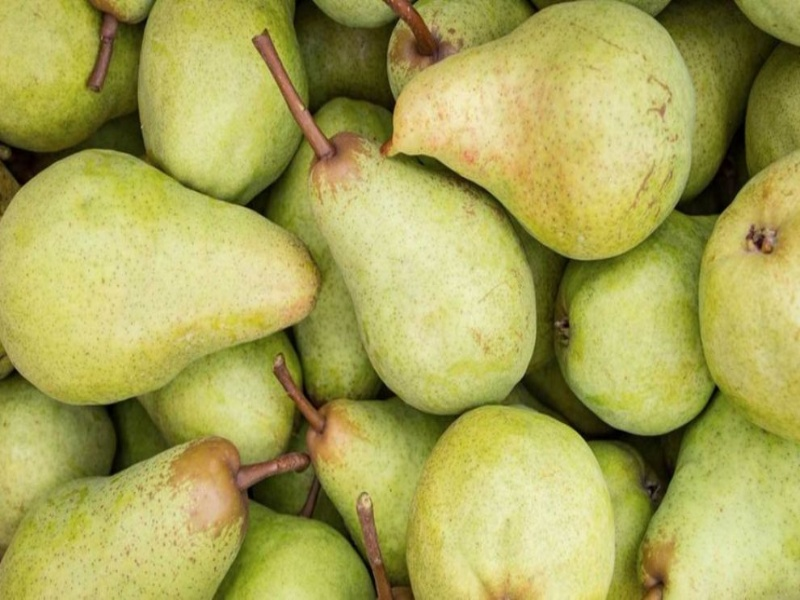Pera: (252, 29, 537, 411), (2, 149, 322, 404), (384, 1, 692, 259), (1, 435, 312, 600), (268, 98, 417, 401), (271, 351, 457, 586), (407, 402, 618, 600), (552, 210, 731, 438), (137, 1, 310, 204), (639, 389, 799, 600), (698, 145, 800, 449), (1, 1, 163, 153), (134, 323, 301, 466), (657, 4, 774, 201), (1, 375, 117, 548), (218, 495, 376, 600), (381, 1, 540, 105), (587, 436, 666, 600), (299, 11, 393, 106), (748, 43, 800, 177), (85, 1, 152, 91)
